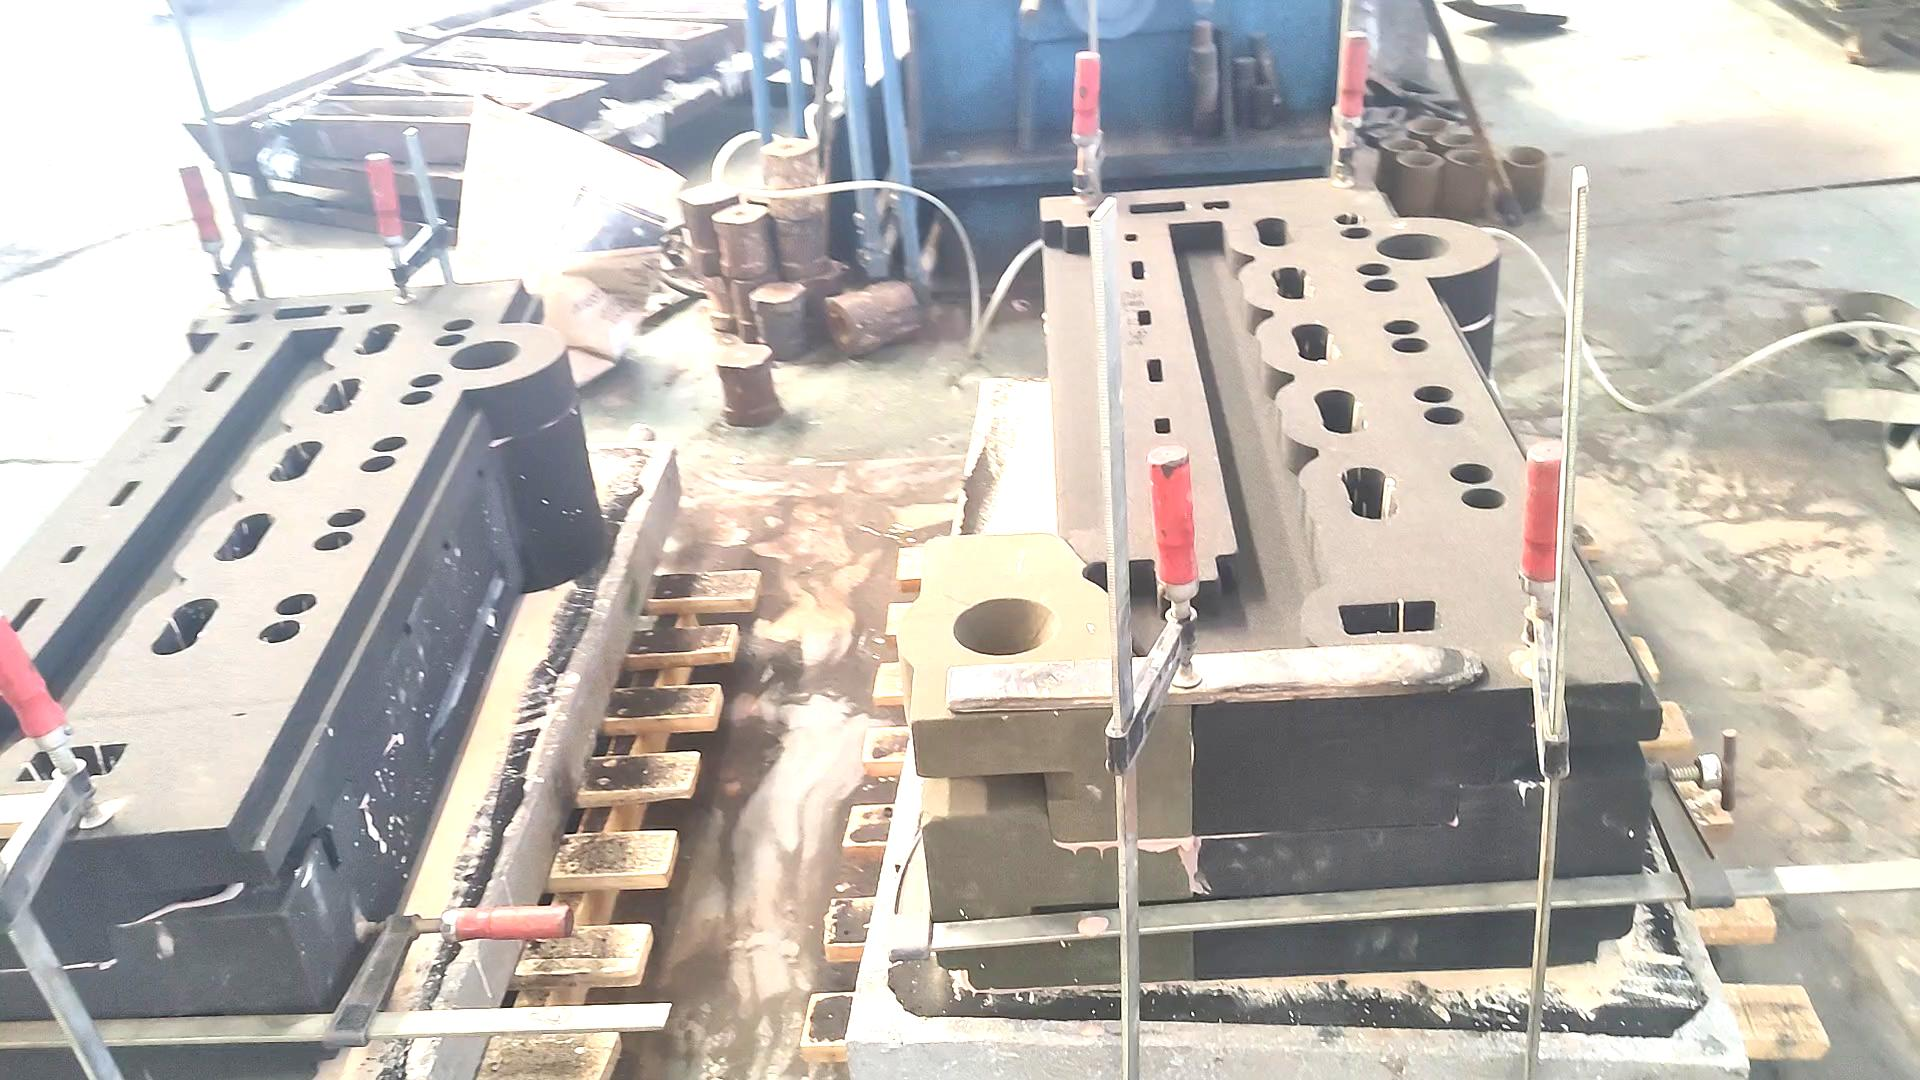pouring hole: (952, 597, 1058, 655), (448, 340, 520, 371), (1375, 233, 1451, 260), (1501, 146, 1545, 167), (1445, 149, 1487, 166), (1398, 152, 1441, 167), (1407, 116, 1447, 133), (1435, 132, 1480, 146), (1381, 137, 1424, 152)
